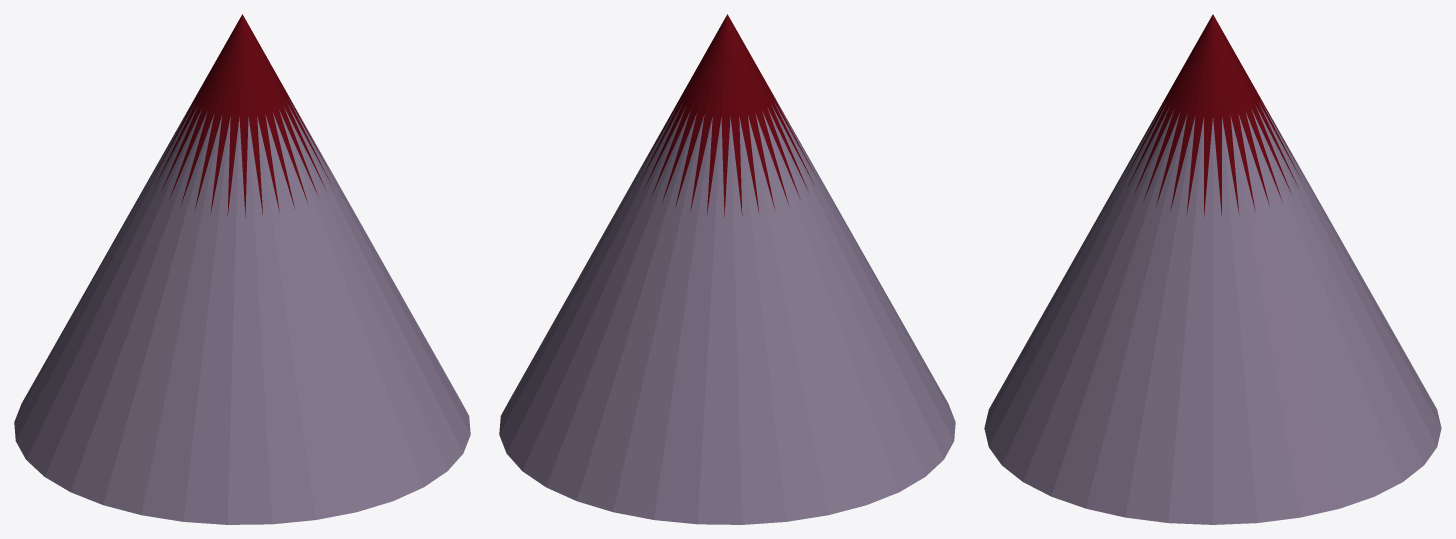
Rendered from Spike.fbx.
3 views of the same model, side by side, from view 1: azimuth 30°, elevation 25°; view 2: azimuth 150°, elevation 25°; view 3: azimuth 270°, elevation 25° (orthographic).
Parts seen in each view (by area): view 1: Cone; view 2: Cone; view 3: Cone.
Boxes of the visible parts, <box> form: Cone: <box>14,14,470,524</box>; Cone: <box>499,14,955,524</box>; Cone: <box>984,14,1441,524</box>.
Size of the model in its own units: 200 by 200 by 200.
